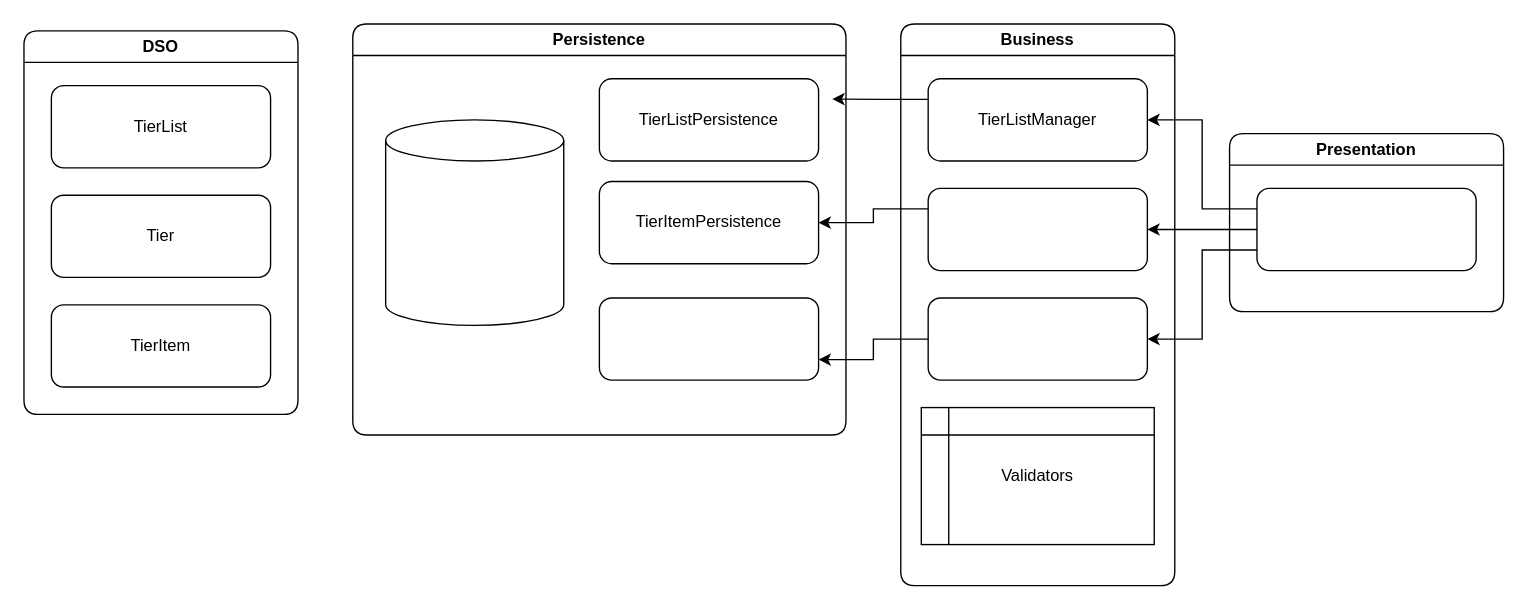
The diagram is 1528 pixels wide and 610 high, and some of its shapes have lost their labels. Here are the shapes that lost their labels. From the top down, the centre of each, then its label:
At (474,222): "Stub Database".
At (1037,229): "ItemPlacementManager".
At (1366,229): "Main View".
At (708,338): "TierPersistence".
At (1037,338): "TierManager".
